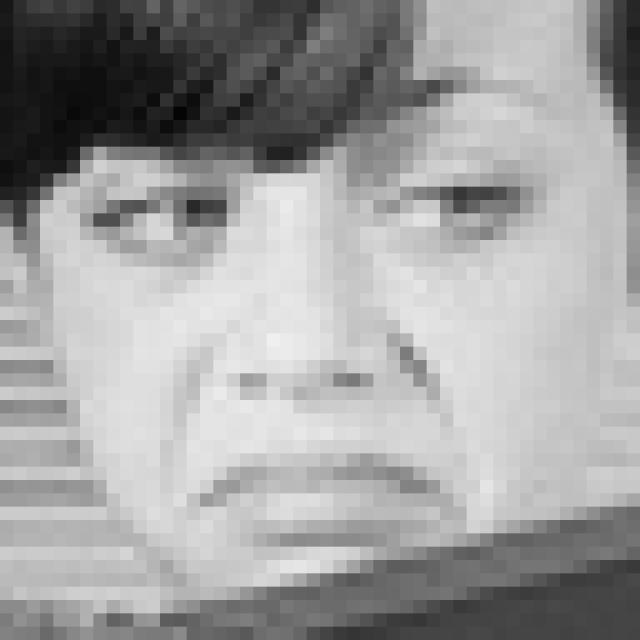disgust: (68, 76, 568, 563)
